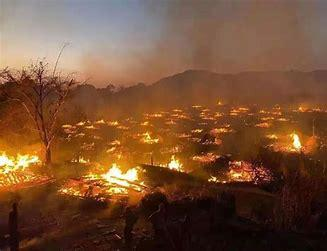smoke: (65, 117, 161, 161), (150, 102, 285, 129), (171, 121, 224, 163), (214, 156, 268, 186), (86, 163, 140, 189), (0, 146, 42, 175), (286, 102, 326, 115), (162, 154, 183, 170), (291, 129, 304, 150)
